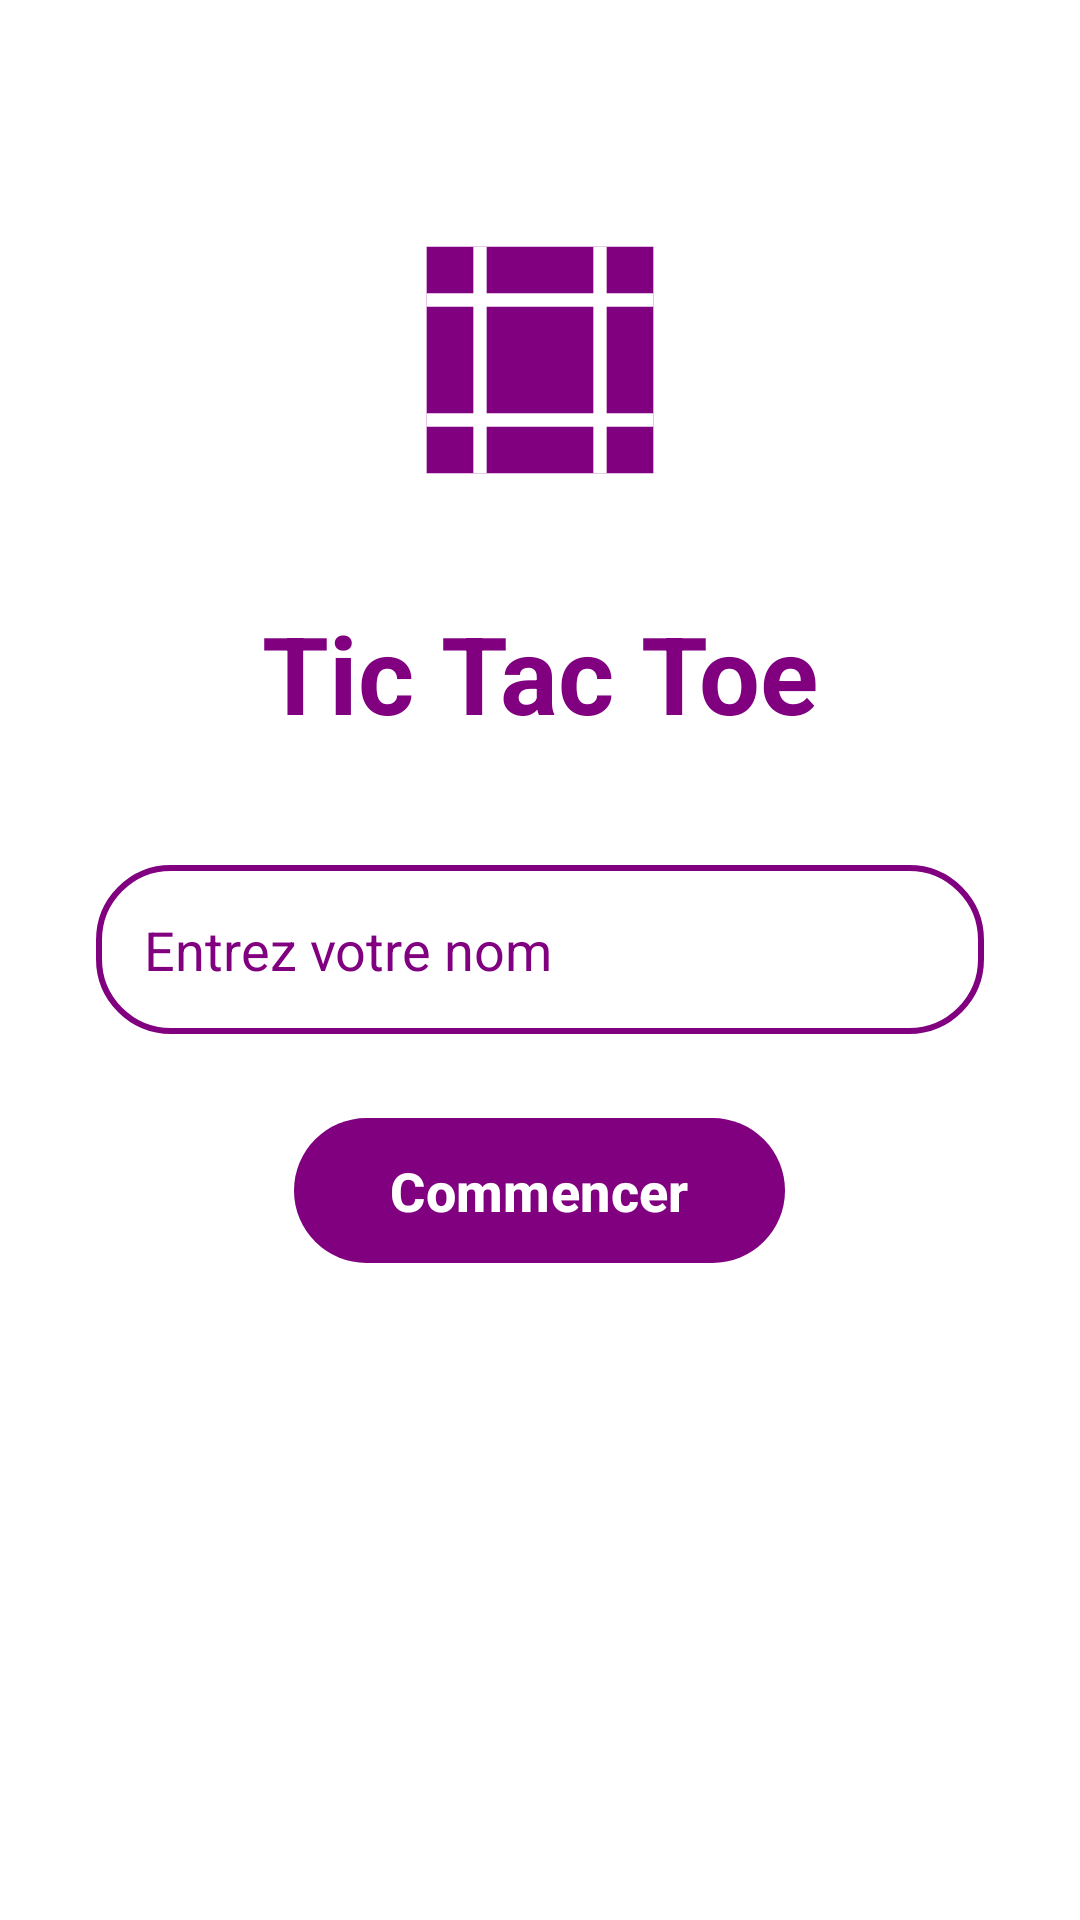

Icons on this 1080 x 1920 Android screen, each with its box as [x1,y1,x2,y2]:
game: [426,246,654,474]
